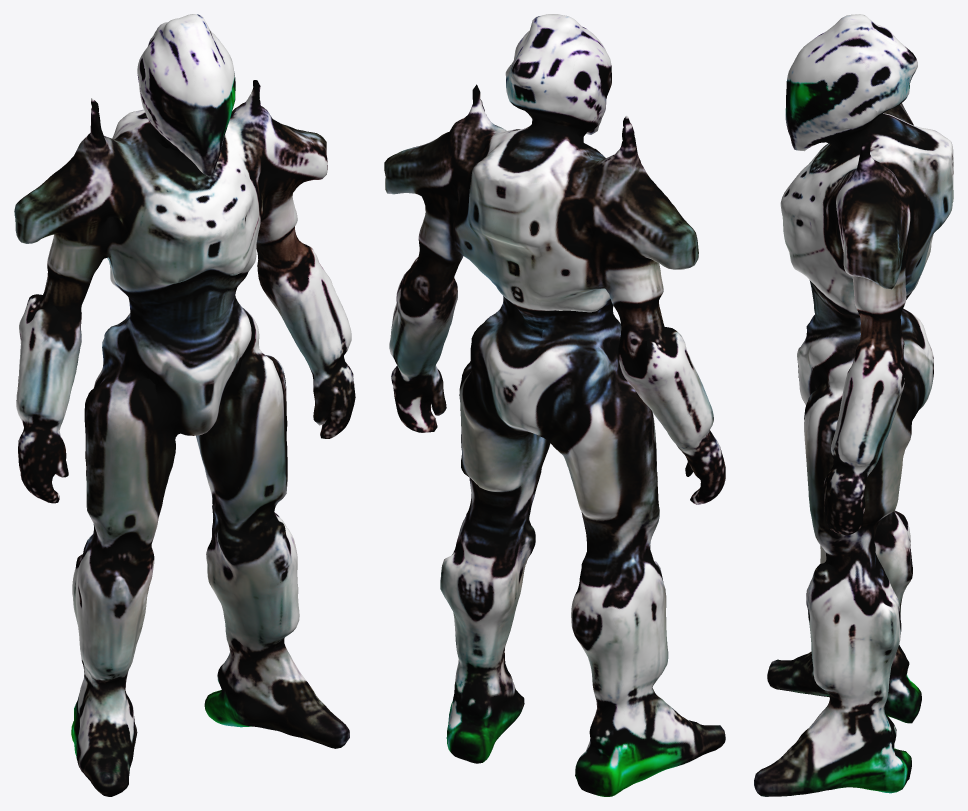
The model's file is quadbike_rider.glb.
3 renders of one model, left to right at view 1: azimuth 30°, elevation 25°; view 2: azimuth 150°, elevation 25°; view 3: azimuth 270°, elevation 25°, orthographic.
Visible parts, largest first — view 1: mesh.obj_1; view 2: mesh.obj_1; view 3: mesh.obj_1.
Boxes of the visible parts, x1=… form: mesh.obj_1: x1=14, y1=14, x2=355, y2=796; mesh.obj_1: x1=384, y1=14, x2=725, y2=796; mesh.obj_1: x1=754, y1=14, x2=953, y2=796.
Bounding box in the file's own units: 0.6914 × 1.49 × 0.3656.
1 material, 1 textured.
